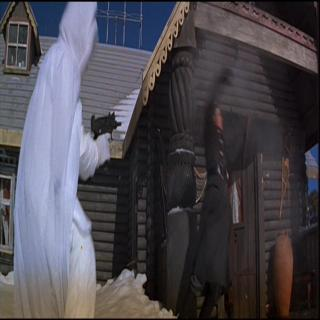gun: (85, 105, 126, 165)
